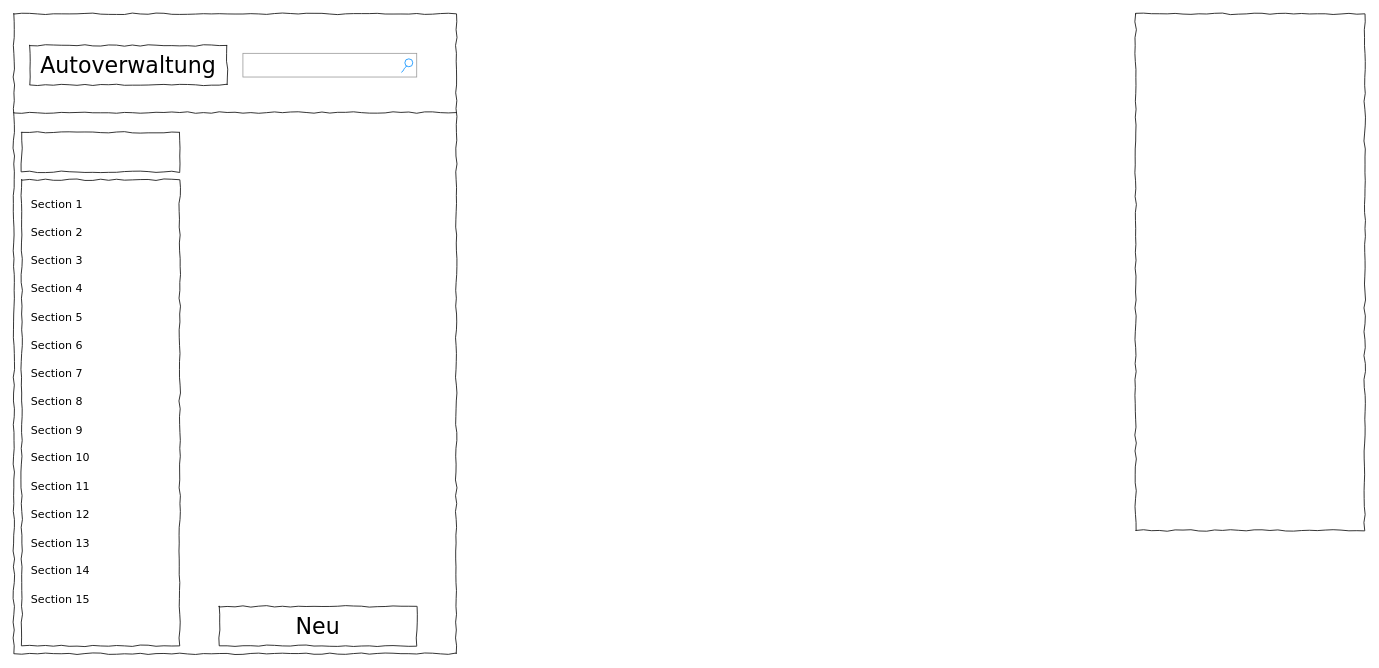
The diagram is 1379 pixels wide and 668 high, and some of its shapes have lost their labels. The box of each missing label's shape, as (x1, y1, x2, y2) in pixels:
Autos: (21, 132, 180, 172)
Search: (242, 53, 417, 77)
